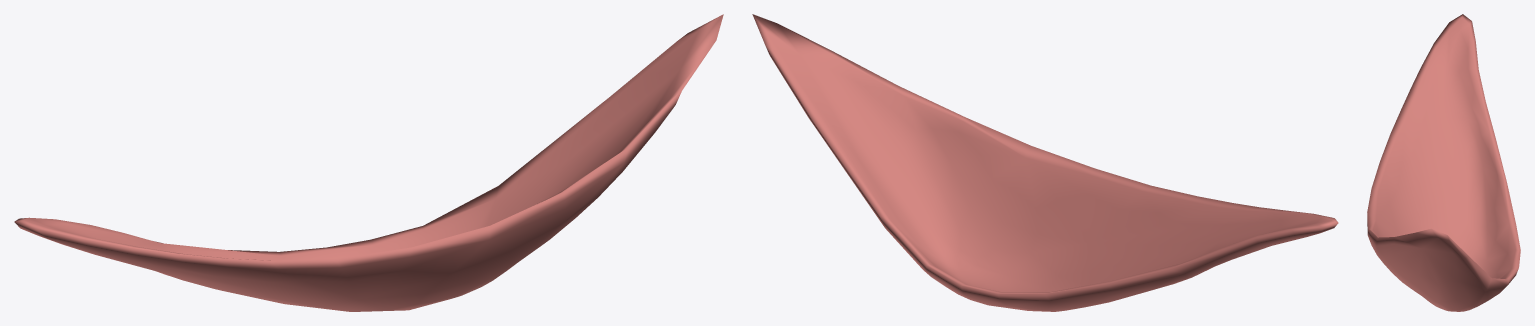
The picture shows the model from 3 angles, left to right: view 1: azimuth 30°, elevation 25°; view 2: azimuth 150°, elevation 25°; view 3: azimuth 270°, elevation 25°; orthographic projection. The views are drawn at different scales.
Parts seen in each view (by area): view 1: ZA_98820ffe72f9e817; view 2: ZA_98820ffe72f9e817; view 3: ZA_98820ffe72f9e817.
Boxes of the visible parts, <box> form: ZA_98820ffe72f9e817: <box>14,14,723,311</box>; ZA_98820ffe72f9e817: <box>752,14,1338,311</box>; ZA_98820ffe72f9e817: <box>1367,14,1520,311</box>.
Bounding box in the file's own units: 0.029 × 0.00935 × 0.00734.
